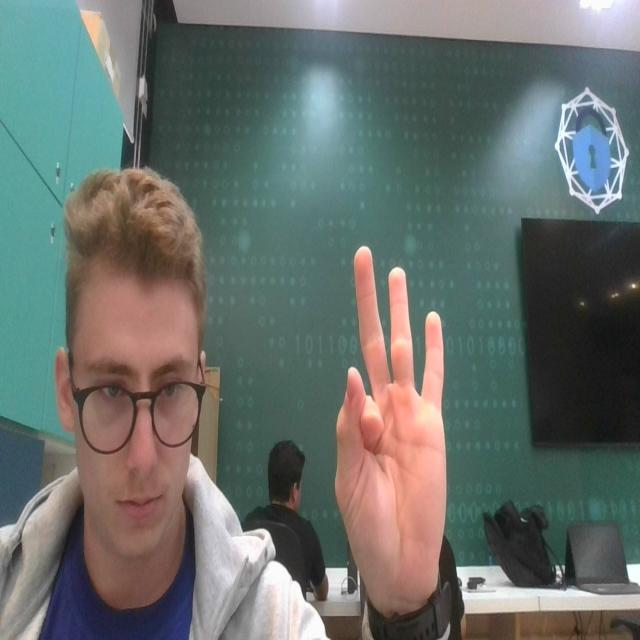F: (327, 230, 457, 614)
